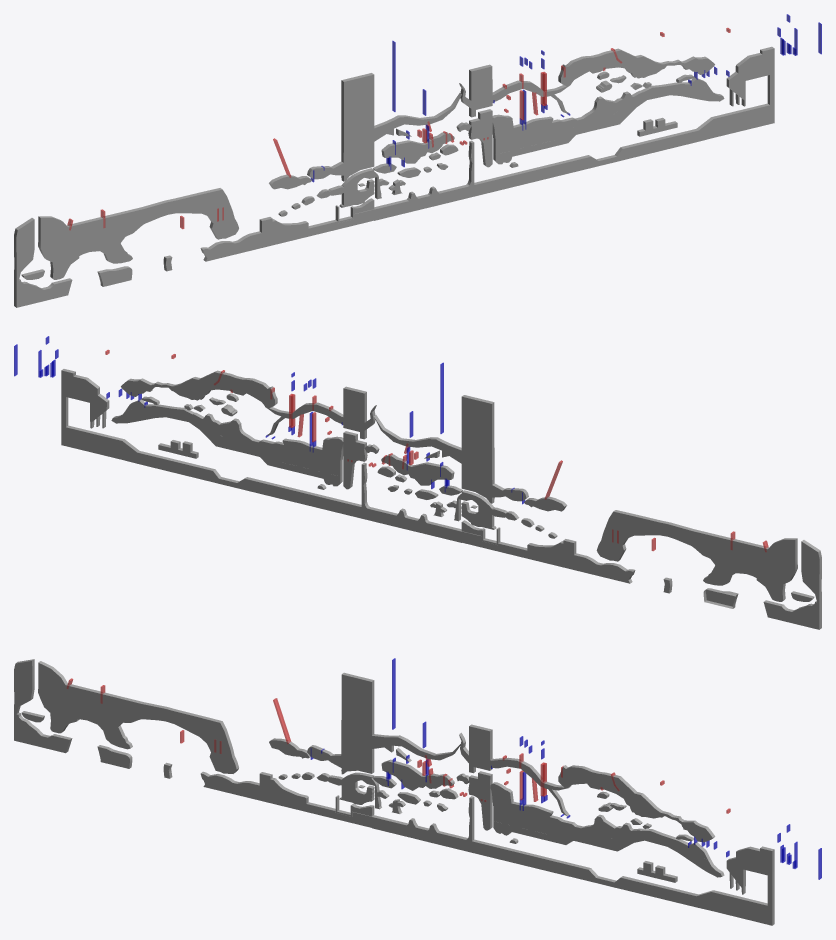
File: earthLevelCollisionMesh.fbx
The picture shows the model from 3 angles, top to bottom: view 1: azimuth 30°, elevation 25°; view 2: azimuth 150°, elevation 25°; view 3: azimuth 330°, elevation 25°; orthographic projection.
Parts seen in each view (by area): view 1: polySurface24; view 2: polySurface24; view 3: polySurface24.
Part boxes in pixels (x1,y1,x2,y2): polySurface24: (14,46,774,307); polySurface24: (61,369,821,629); polySurface24: (14,659,774,925).
Size of the model in its own units: 57364 by 11802 by 616.
